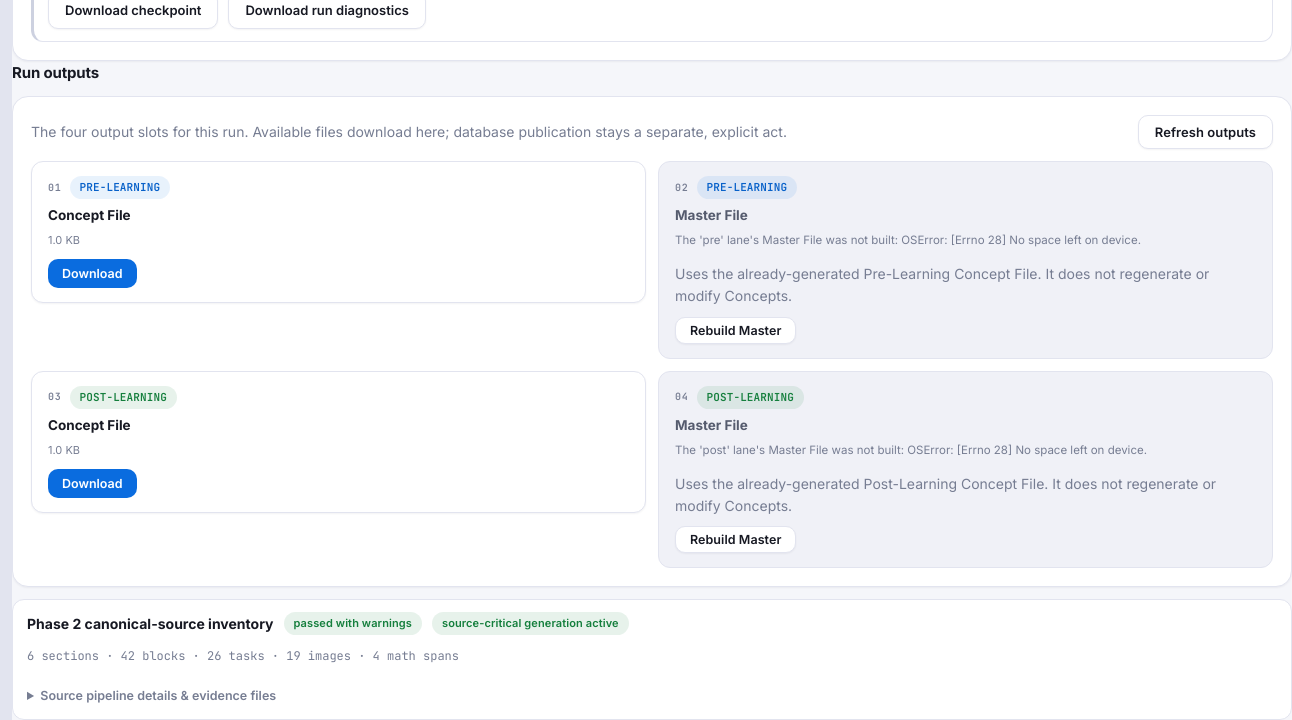
a 507 gives actionable storage recovery and preserves Concept downloads
(page scrolled)
Click the button with aria-label "Rebuild Post-Learning Master File".
click(736, 540)  # box [675,526,796,553]
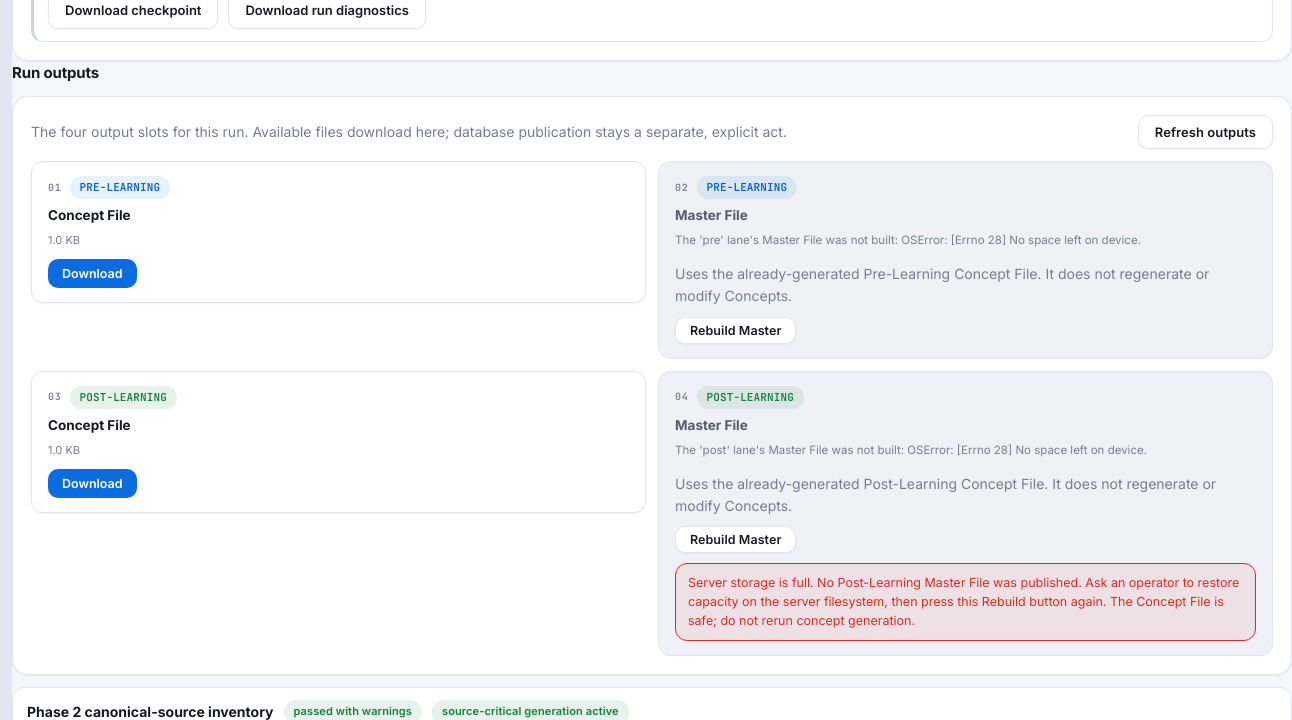
Result: the message shows "Server storage is full" at [688,575,1243,628]
Result: the message shows "restore capacity on the server filesystem" at [688,575,1243,628]
Result: the message shows "do not rerun concept generation" at [688,575,1243,628]
